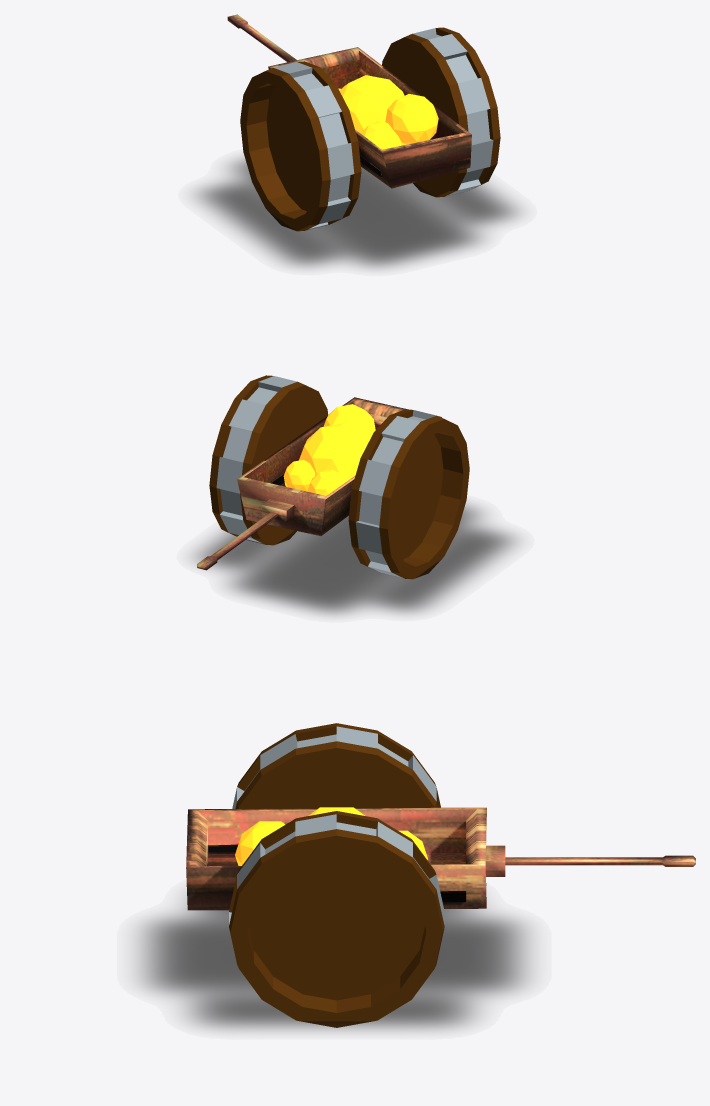
The model's file is player.glb.
3 renders of one model, top to bottom at view 1: azimuth 30°, elevation 25°; view 2: azimuth 150°, elevation 25°; view 3: azimuth 270°, elevation 25°, orthographic. The views are drawn at different scales.
Visible parts, largest first — view 1: Wheels, Shadow, Player, Gold; view 2: Wheels, Shadow, Player, Gold; view 3: Wheels, Shadow, Player, Gold.
Boxes of the visible parts, x1,y1,x2,y2 form: Wheels: (240, 27, 500, 231); Shadow: (195, 157, 520, 268); Player: (227, 14, 471, 188); Gold: (338, 75, 438, 149); Wheels: (209, 375, 469, 579); Shadow: (193, 503, 517, 615); Player: (197, 397, 441, 570); Gold: (283, 404, 375, 495); Wheels: (229, 723, 444, 1027); Shadow: (138, 899, 530, 1030); Player: (186, 807, 695, 910); Gold: (235, 807, 427, 865).
Size of the model in its own units: 2.25 by 0.7512 by 2.37.
5 materials, 2 textured.
